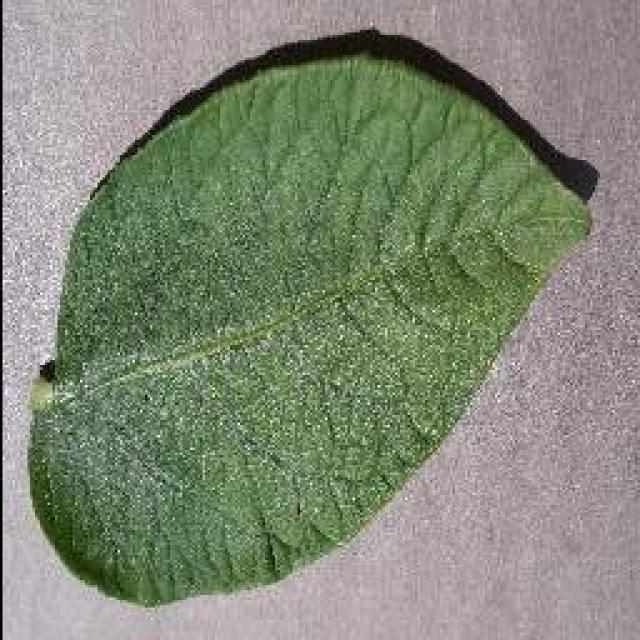Potato___healthy: (25, 54, 592, 611)
